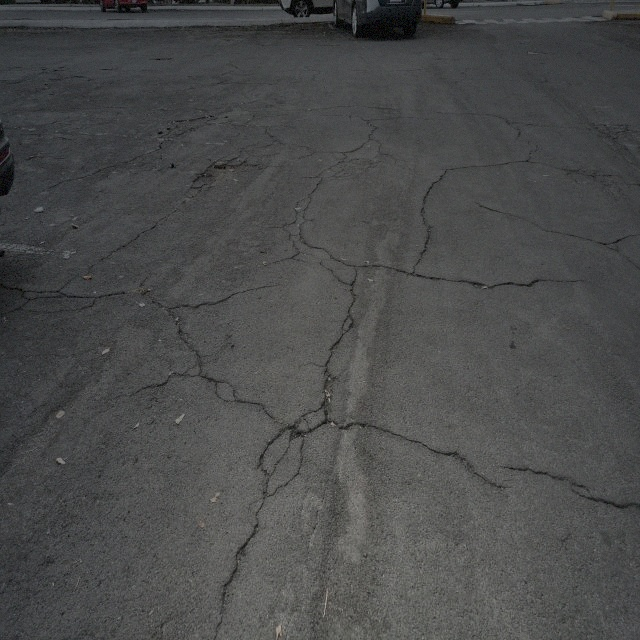pothole: (194, 154, 244, 192)
